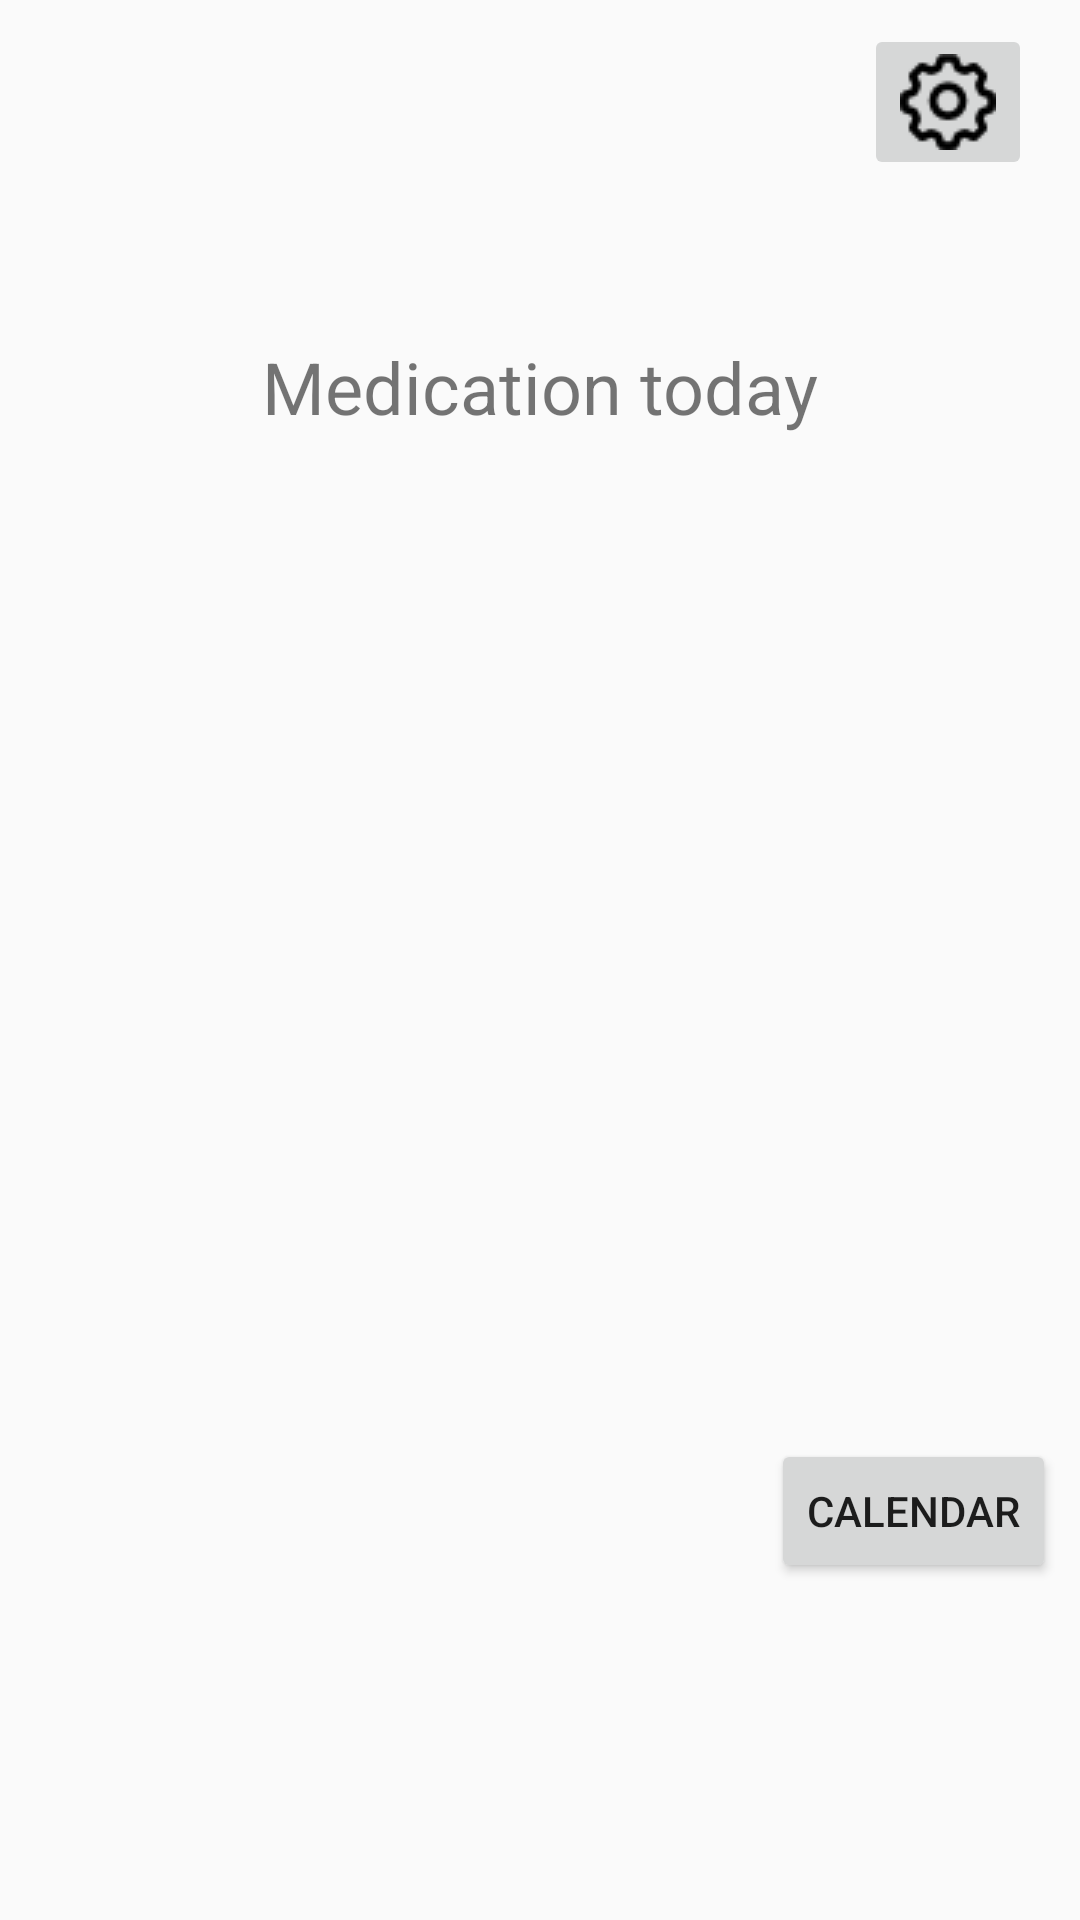

Icons on this 1080px x 1920px Android screen, each with its box as (x1, y1, x2, y2):
settings: (876, 42, 1020, 162)
